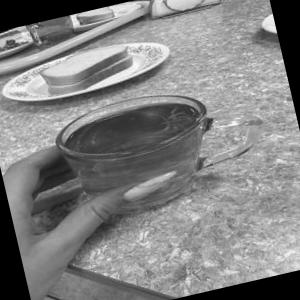bread: (27, 24, 146, 106)
tea: (49, 73, 238, 240)
